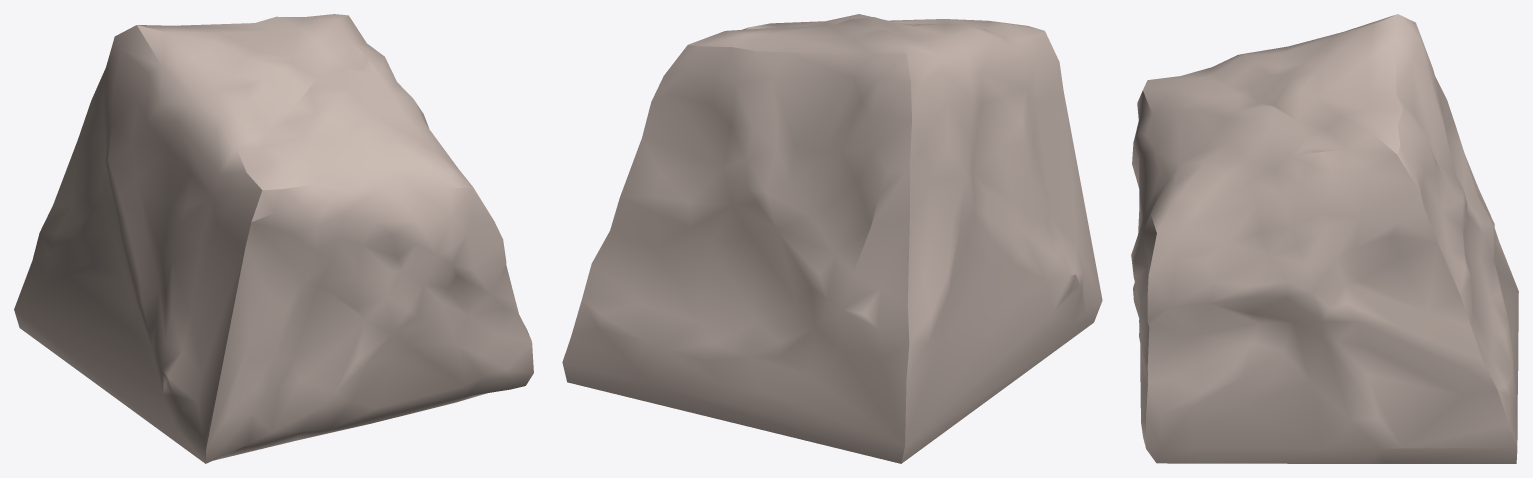
File: rock.fbx
3 renders of one model, left to right at view 1: azimuth 30°, elevation 25°; view 2: azimuth 150°, elevation 25°; view 3: azimuth 270°, elevation 25°, orthographic. The views are drawn at different scales.
Parts seen in each view (by area): view 1: rock; view 2: rock; view 3: rock.
Part boxes in pixels (bbox=[...]): rock: bbox=[14, 14, 533, 463]; rock: bbox=[562, 14, 1102, 463]; rock: bbox=[1131, 14, 1518, 463].
Bounding box in the file's own units: 199 × 193 × 204.
